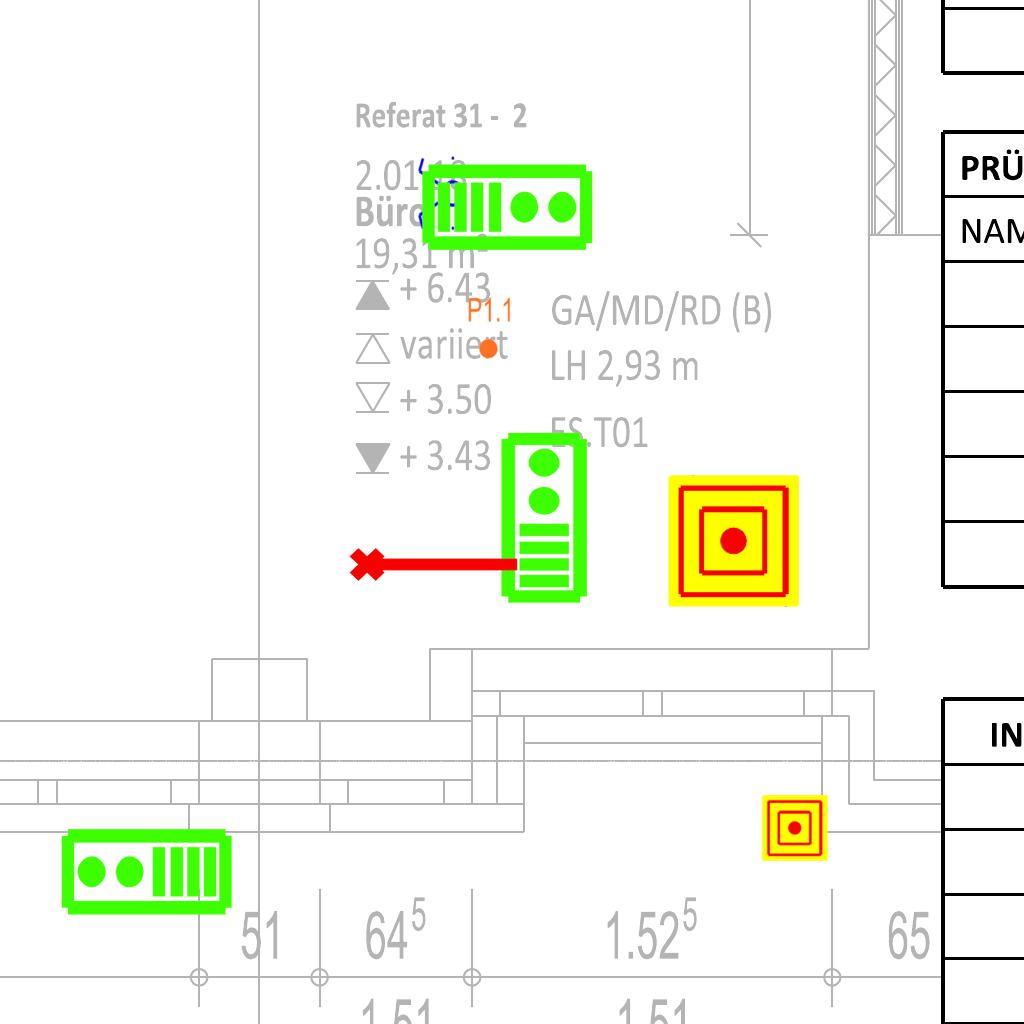ASR_Ansaugoeffnung: (347, 539, 523, 585)
Downlight_LED_Einbauleuchten_Flur: (467, 296, 513, 360)
Gegensprechanlage_mit_Video: (495, 429, 590, 605), (58, 826, 234, 921), (420, 158, 596, 253)
NAM-Nichtautomatischer_Melder: (668, 475, 800, 607), (762, 795, 828, 861)
Serienschalter: (416, 152, 464, 236)
